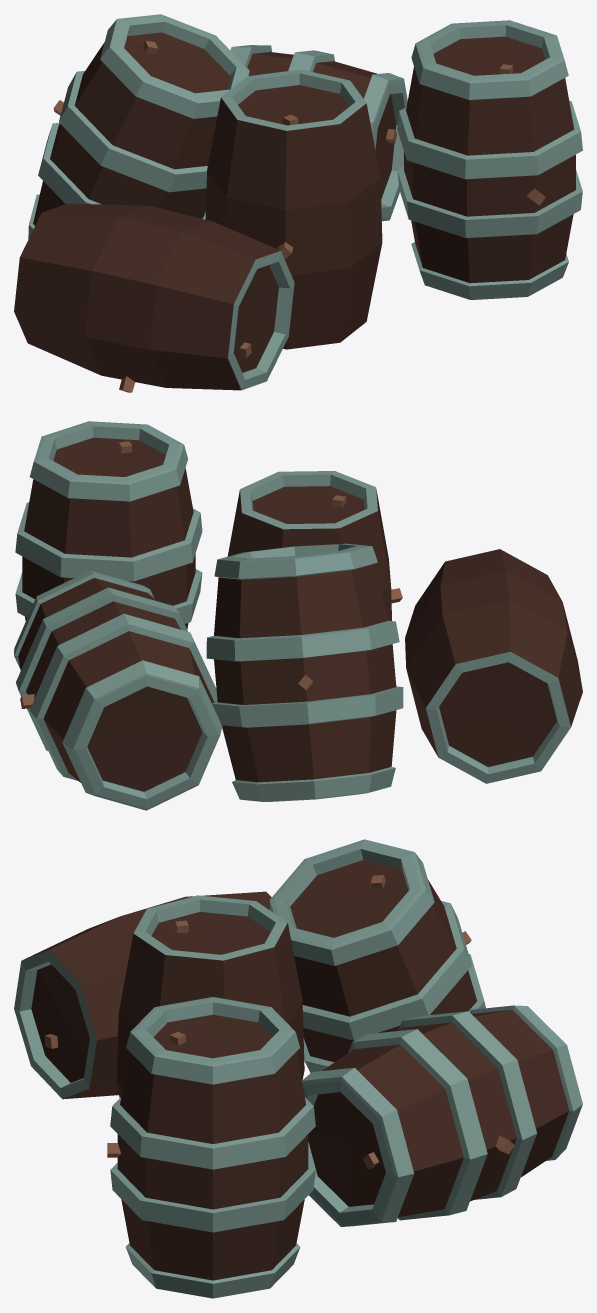
File: Barili.fbx
3 renders of one model, top to bottom at view 1: azimuth 30°, elevation 25°; view 2: azimuth 150°, elevation 25°; view 3: azimuth 270°, elevation 25°, orthographic. The views are drawn at different scales.
Parts seen in each view (by area): view 1: Polvere Da Sparo; view 2: Polvere Da Sparo; view 3: Polvere Da Sparo.
Part boxes in pixels (x1=…): Polvere Da Sparo: x1=14, y1=14, x2=582, y2=392; Polvere Da Sparo: x1=14, y1=421, x2=582, y2=810; Polvere Da Sparo: x1=14, y1=839, x2=582, y2=1298.
Size of the model in its own units: 198 by 86.79 by 166.
